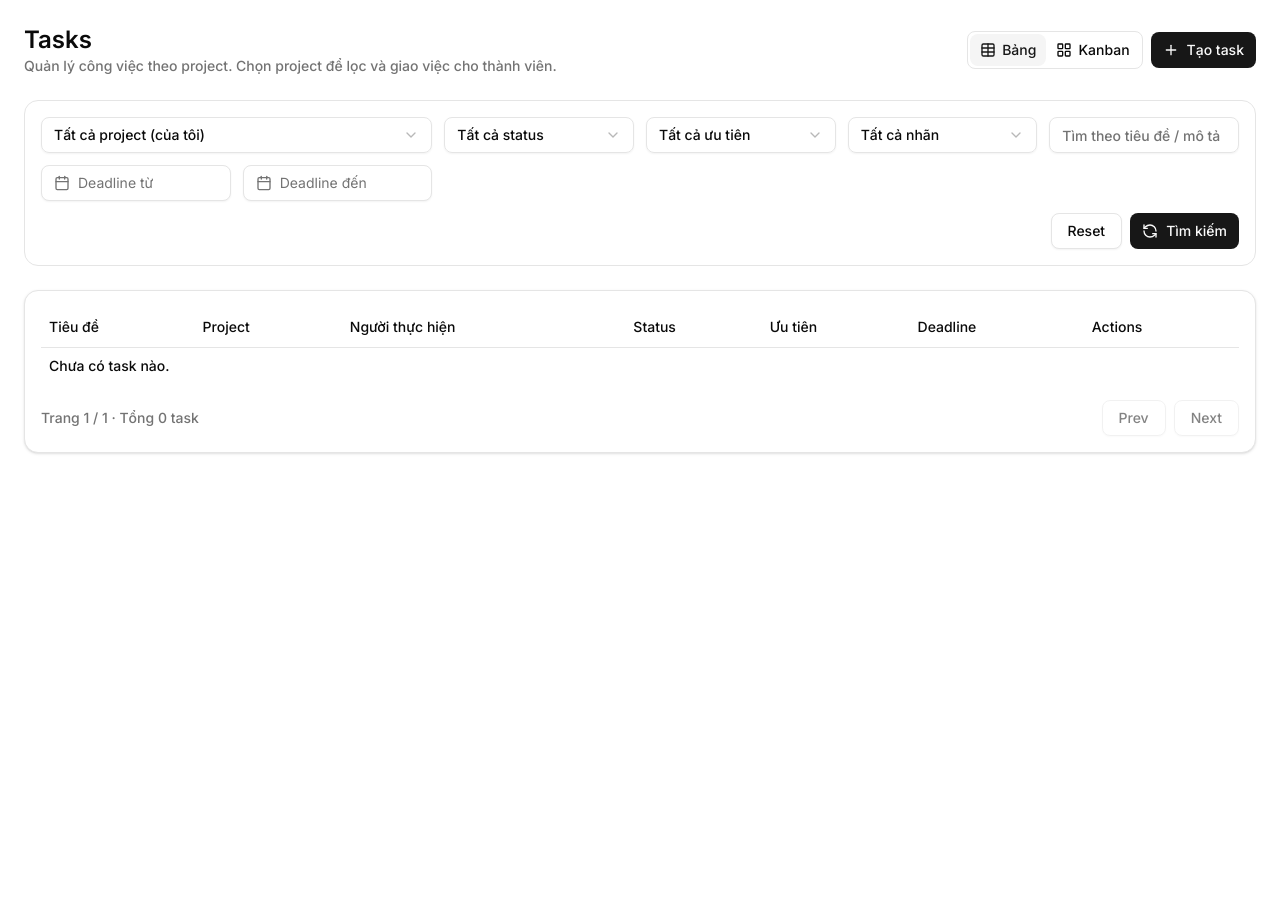
it: <Tasks /> › opens the create dialog from the toolbar
Expected: the text "Chưa có task nào." is shown, [41, 347, 1239, 384]
Step 1. Click the button "Tạo task" → (1203, 50), box [1151, 32, 1256, 68]
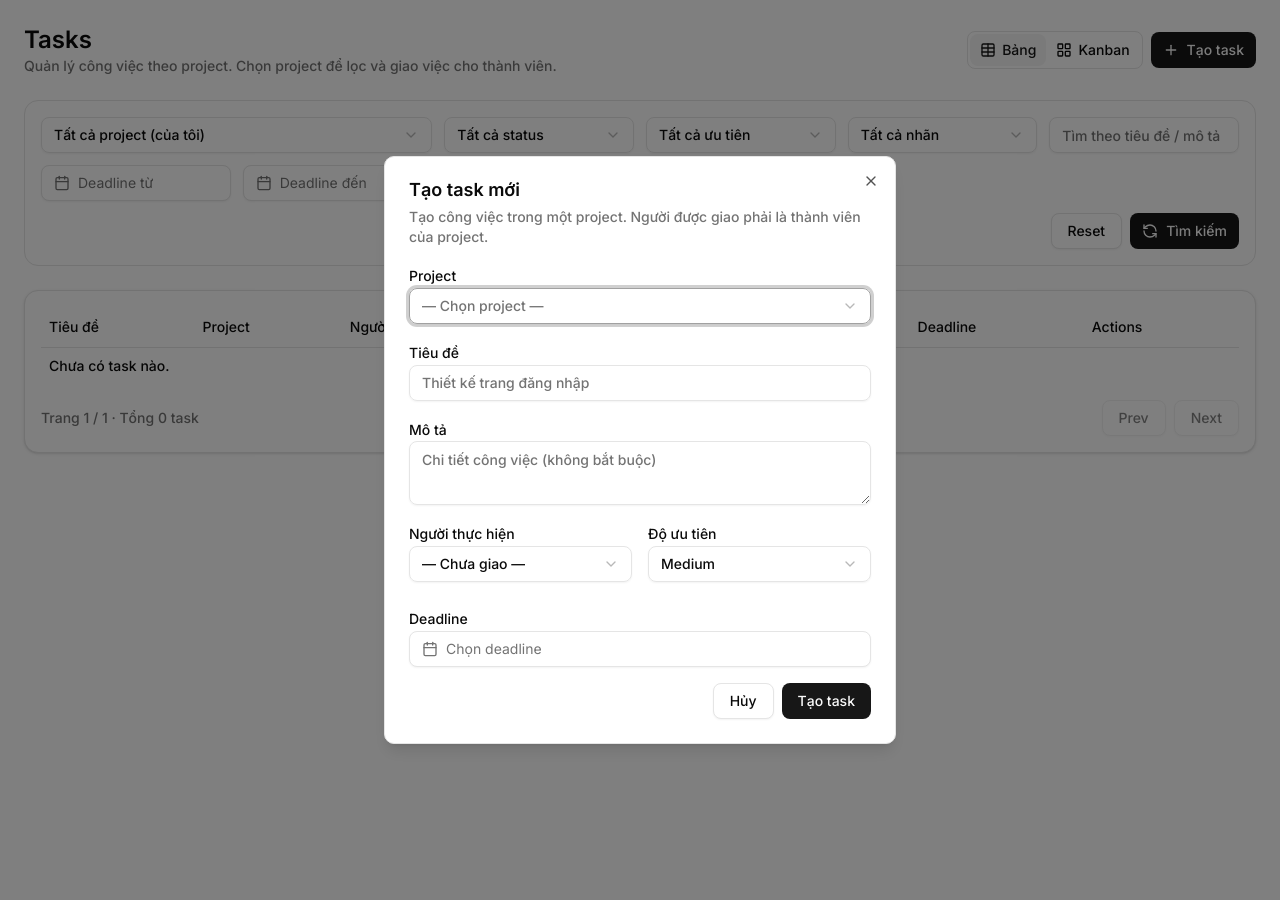
Now the heading "Tạo task mới" is shown, box [409, 179, 520, 200]
